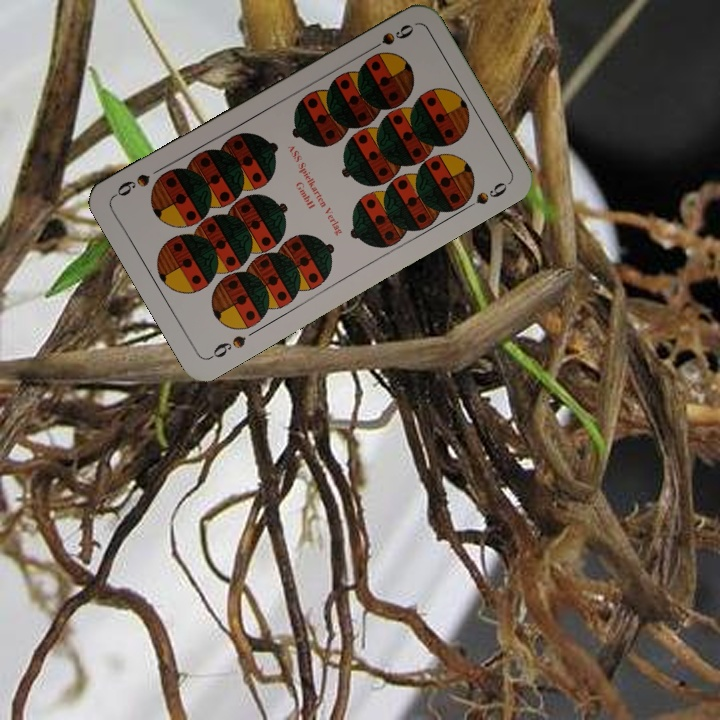S9: (362, 20, 417, 56), (205, 331, 249, 362)
